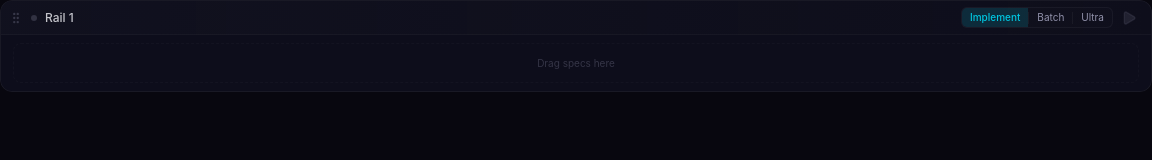
Scenario: RailRow › Escape key cancels editing
Step 1. Click the button "Rail 1" → click(59, 18), box [45,10,74,26]
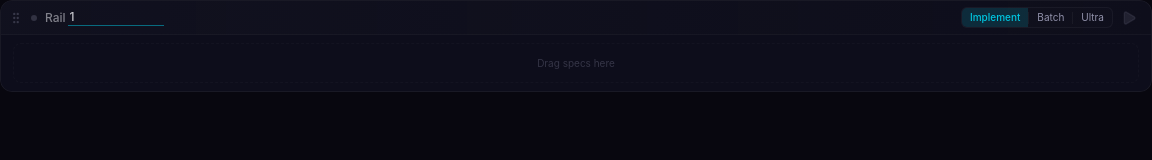
Step 2. Press Escape in the field, box [68,9,164,26]
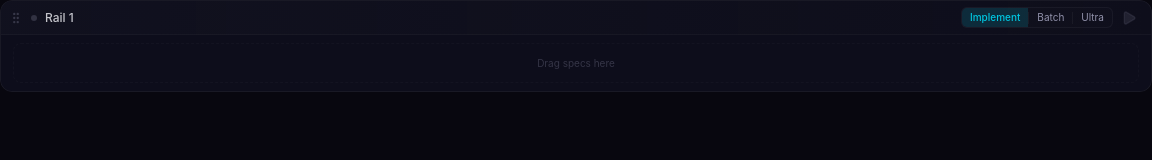
expect the field is gone: met
